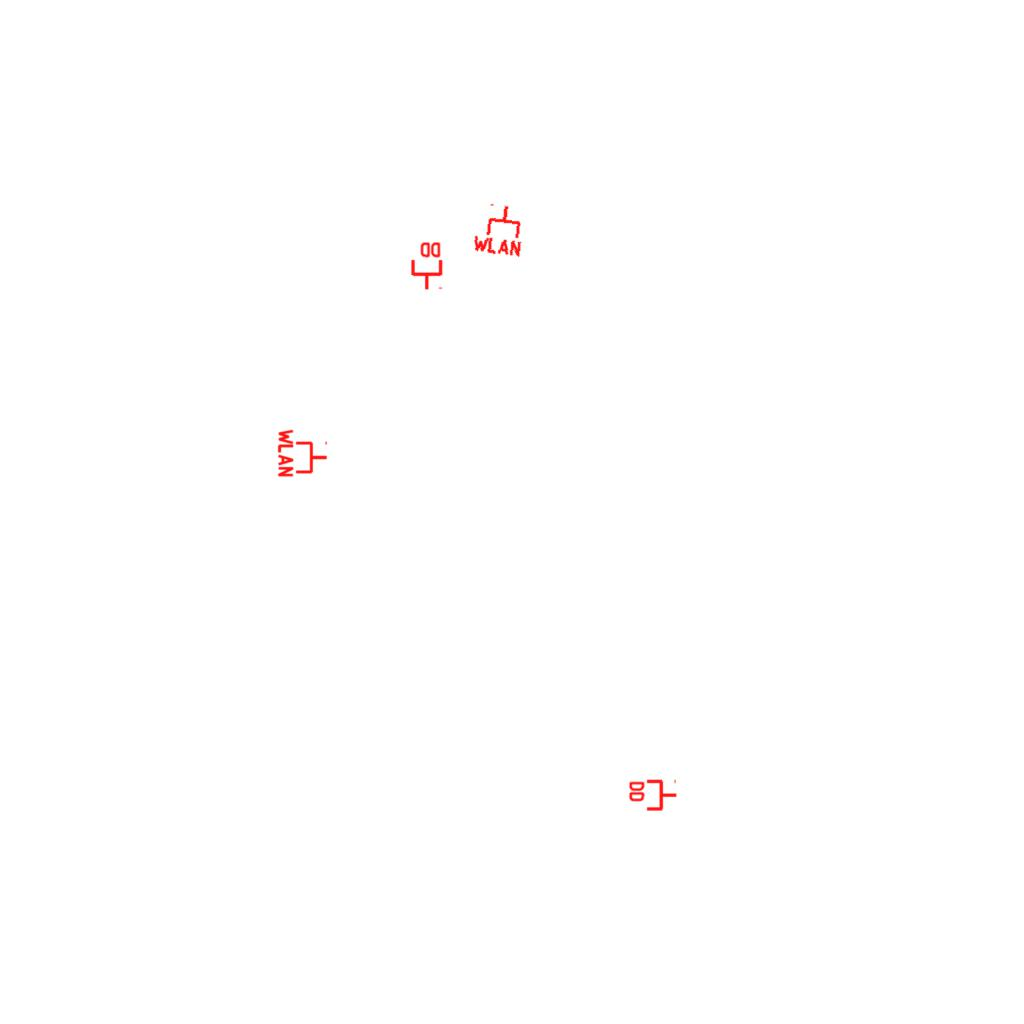Datenanschluss_zweifach: (627, 779, 678, 813), (409, 240, 443, 291)
WLAN: (470, 200, 528, 258), (277, 427, 329, 479)
